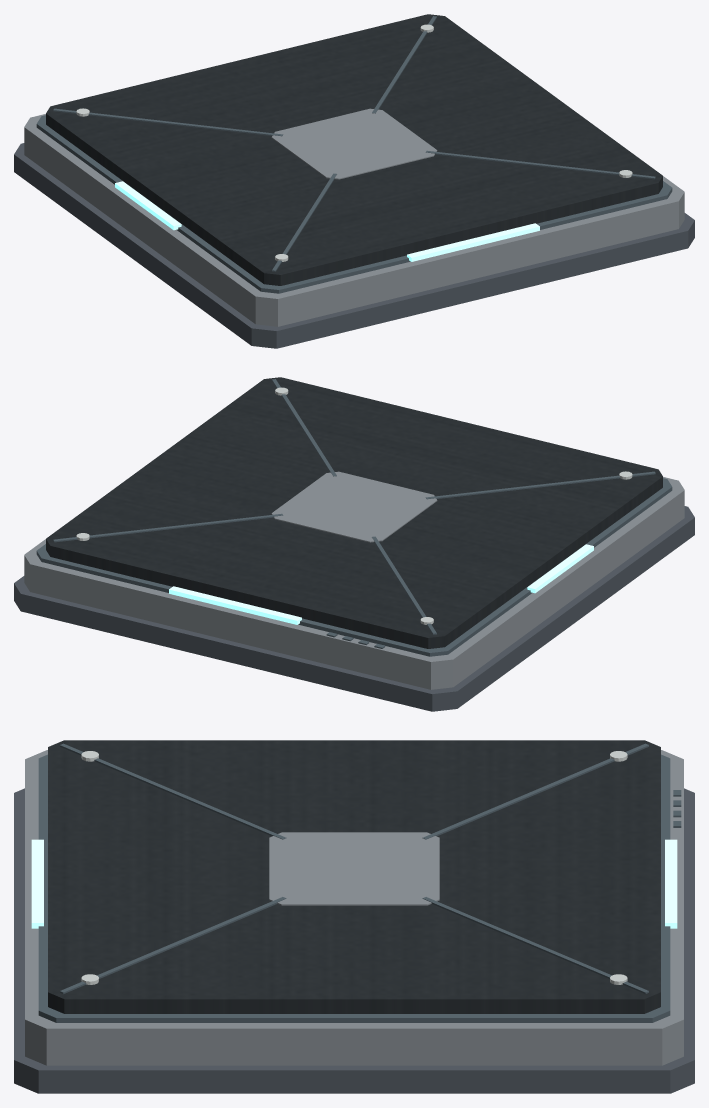
The model's file is m03-metal-quarter-sw.glb.
3 renders of one model, top to bottom at view 1: azimuth 30°, elevation 25°; view 2: azimuth 150°, elevation 25°; view 3: azimuth 270°, elevation 25°, orthographic. The views are drawn at different scales.
Parts seen in each view (by area): view 1: quarter-sw/003, quarter-sw/001, quarter-sw/000, quarter-sw/004, quarter-sw/002, quarter-sw/014, quarter-sw/015, quarter-sw/008, quarter-sw/005; view 2: quarter-sw/003, quarter-sw/001, quarter-sw/000, quarter-sw/004, quarter-sw/002, quarter-sw/013, quarter-sw/015, quarter-sw/007, quarter-sw/006; view 3: quarter-sw/003, quarter-sw/001, quarter-sw/000, quarter-sw/004, quarter-sw/002, quarter-sw/013, quarter-sw/014, quarter-sw/007, quarter-sw/008, quarter-sw/005, quarter-sw/006.
Boxes of the visible parts, x1=… form: quarter-sw/003: x1=46, y1=14, x2=662, y2=285; quarter-sw/001: x1=24, y1=114, x2=684, y2=326; quarter-sw/000: x1=14, y1=143, x2=694, y2=348; quarter-sw/004: x1=271, y1=108, x2=437, y2=179; quarter-sw/002: x1=36, y1=115, x2=672, y2=293; quarter-sw/014: x1=407, y1=223, x2=539, y2=261; quarter-sw/015: x1=115, y1=181, x2=181, y2=230; quarter-sw/008: x1=425, y1=150, x2=655, y2=179; quarter-sw/005: x1=53, y1=108, x2=283, y2=136; quarter-sw/003: x1=46, y1=377, x2=662, y2=648; quarter-sw/001: x1=24, y1=477, x2=684, y2=689; quarter-sw/000: x1=14, y1=506, x2=694, y2=711; quarter-sw/004: x1=271, y1=471, x2=437, y2=542; quarter-sw/002: x1=36, y1=478, x2=672, y2=656; quarter-sw/013: x1=169, y1=586, x2=301, y2=624; quarter-sw/015: x1=527, y1=544, x2=593, y2=593; quarter-sw/007: x1=53, y1=513, x2=283, y2=542; quarter-sw/006: x1=425, y1=471, x2=655, y2=499; quarter-sw/003: x1=48, y1=740, x2=660, y2=1013; quarter-sw/001: x1=25, y1=750, x2=683, y2=1065; quarter-sw/000: x1=14, y1=788, x2=694, y2=1093; quarter-sw/004: x1=269, y1=832, x2=439, y2=905; quarter-sw/002: x1=38, y1=754, x2=670, y2=1022; quarter-sw/013: x1=665, y1=839, x2=677, y2=928; quarter-sw/014: x1=31, y1=839, x2=43, y2=928; quarter-sw/007: x1=422, y1=897, x2=648, y2=993; quarter-sw/008: x1=60, y1=897, x2=286, y2=993; quarter-sw/005: x1=422, y1=743, x2=648, y2=839; quarter-sw/006: x1=60, y1=743, x2=286, y2=839.
Size of the model in its own units: 0.5 by 0.0678 by 0.5.
Materials: 6 (1 with a texture image).
